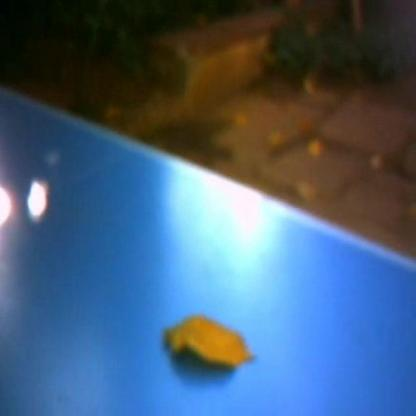other: (172, 162, 282, 269), (0, 165, 42, 245)
